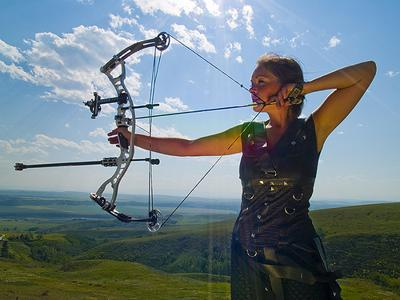person: (107, 53, 378, 298)
